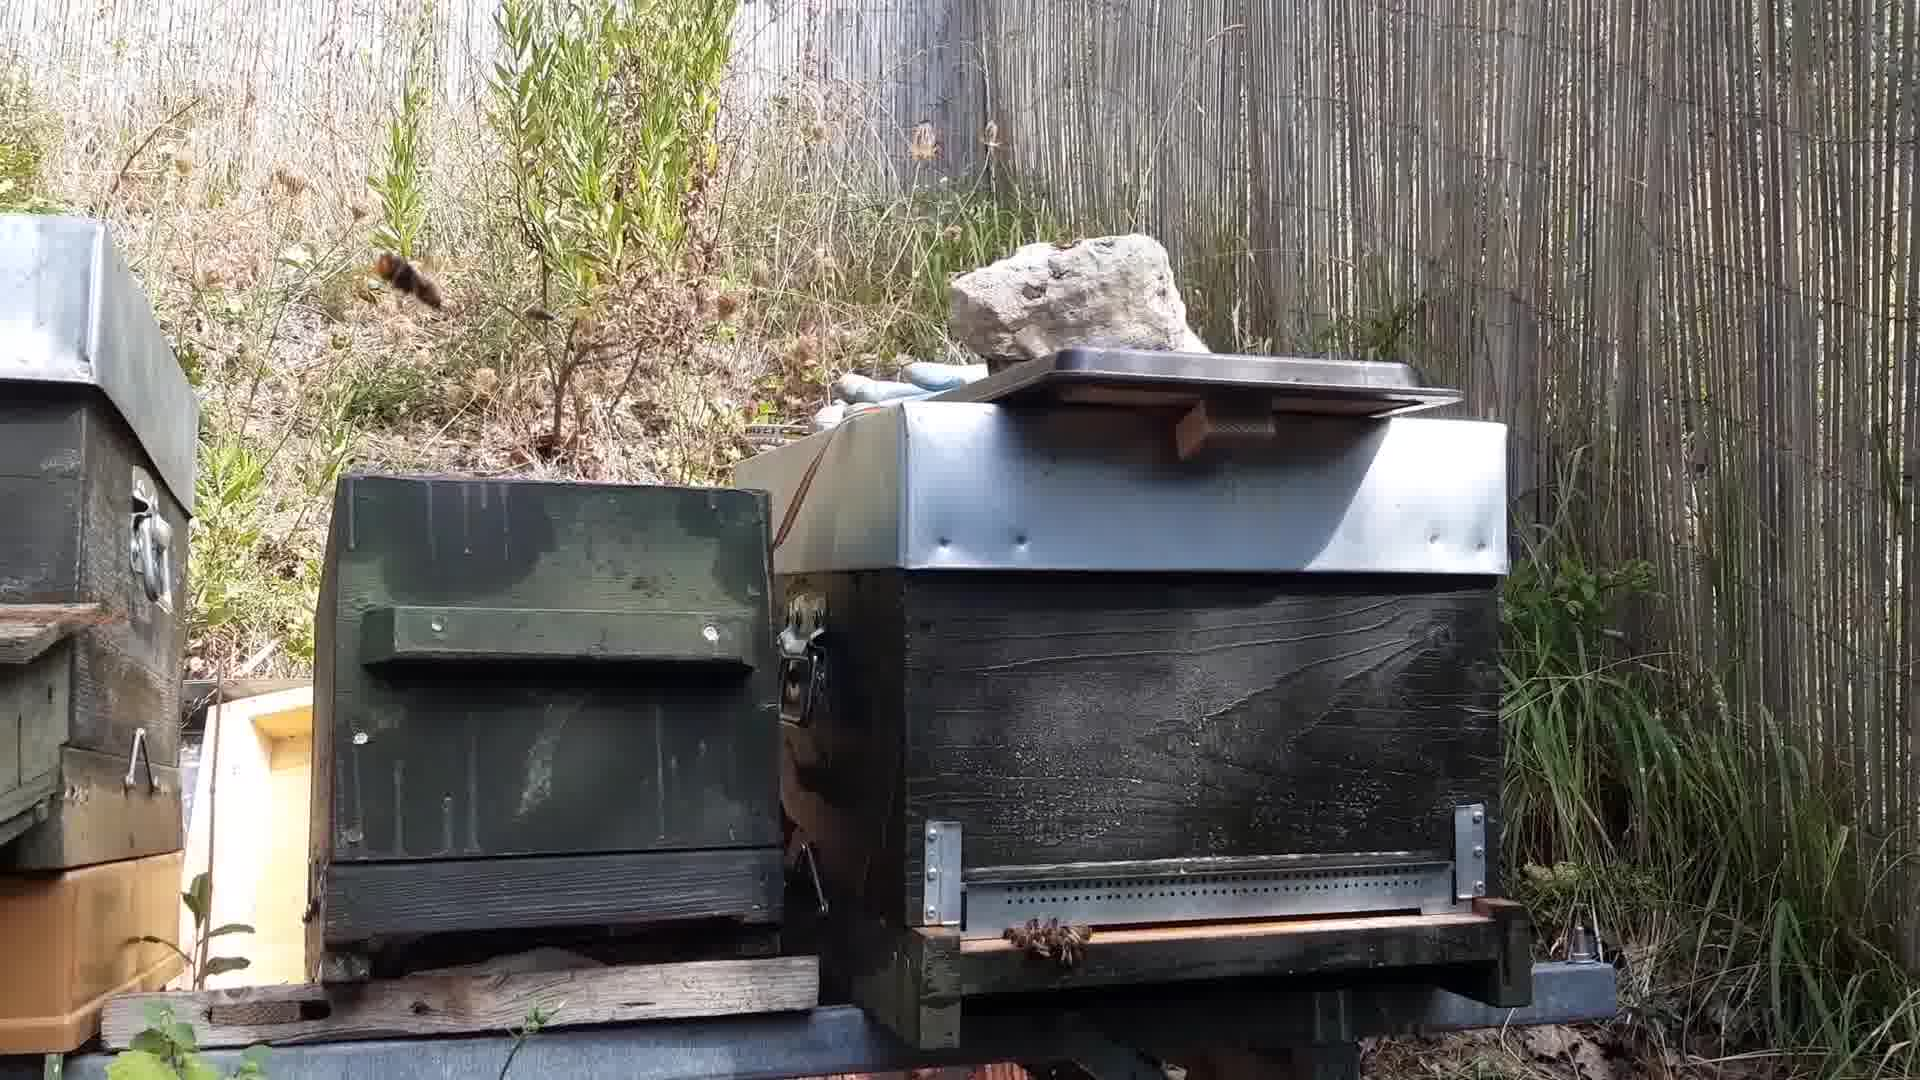bee: (1004, 914, 1095, 968)
hornet: (365, 237, 450, 322)
